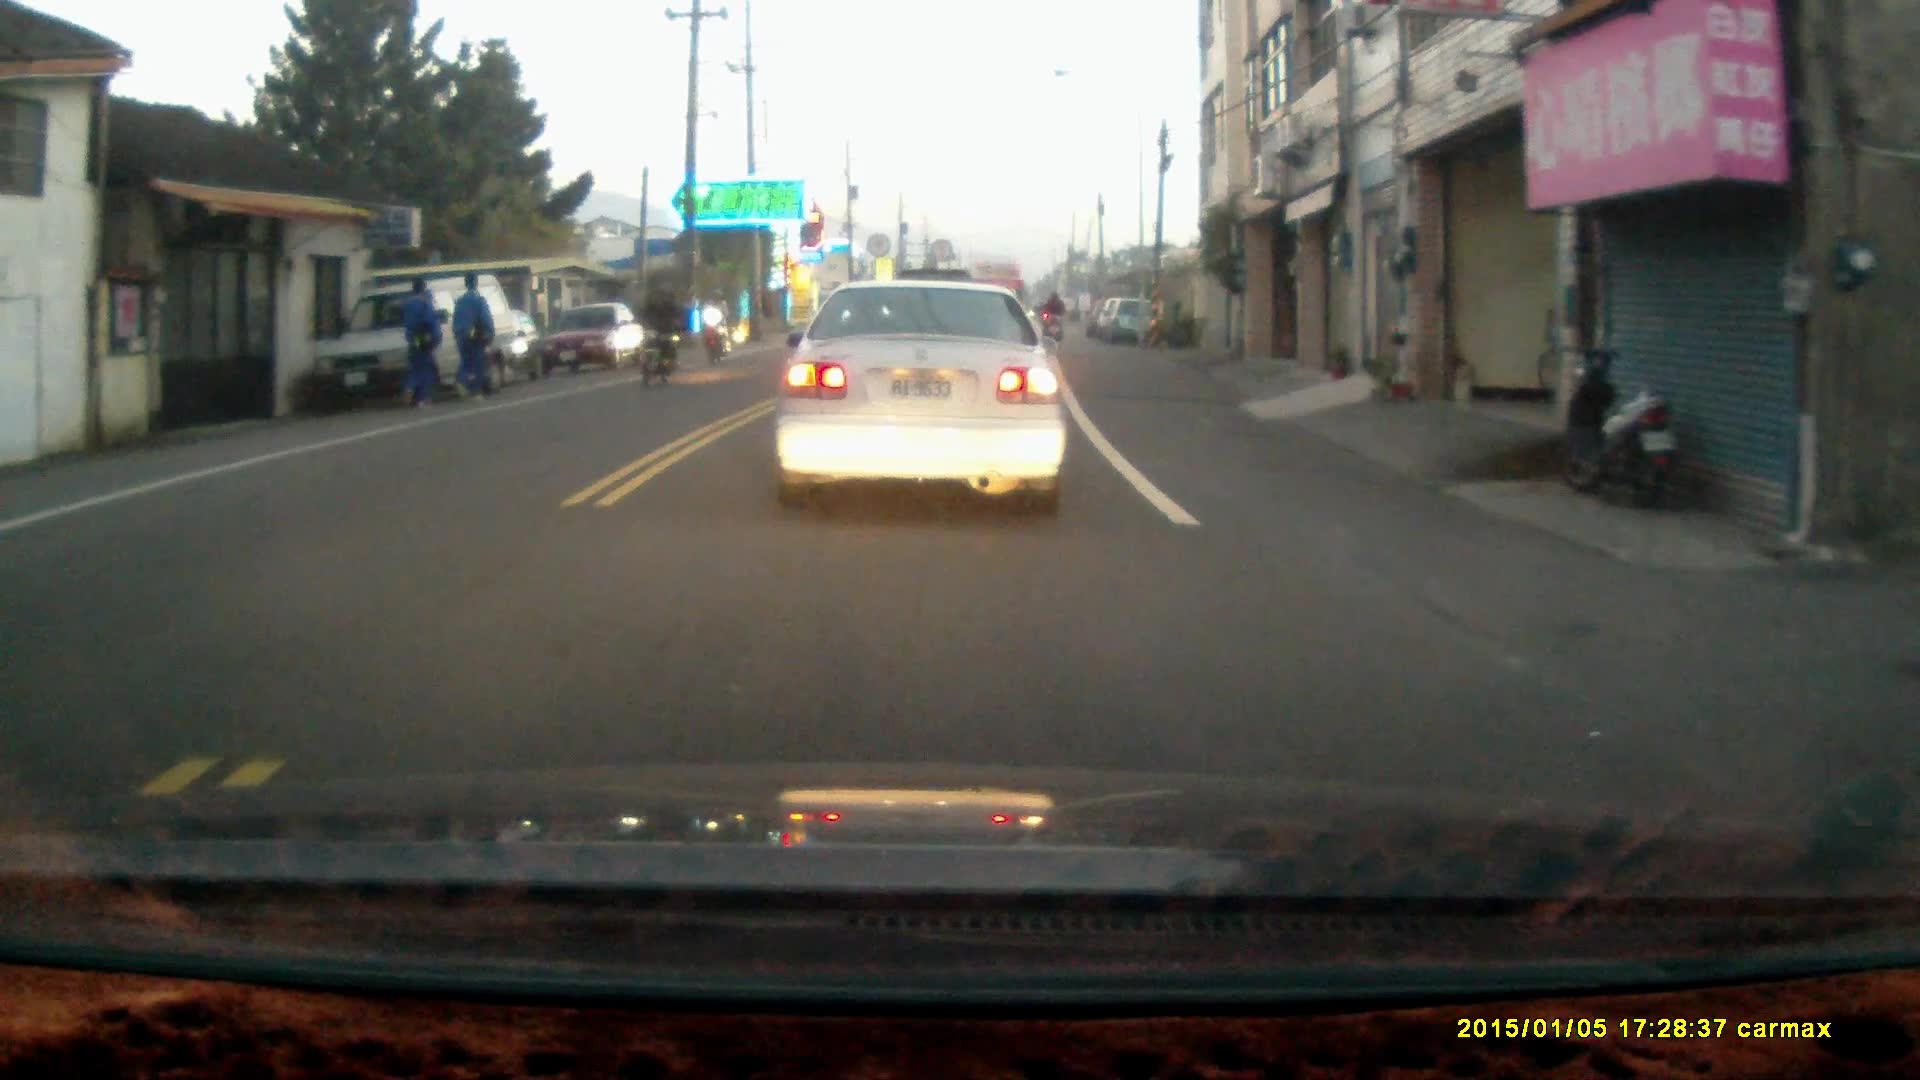pedestrian: (443, 267, 494, 405), (391, 276, 439, 410)
rider: (632, 282, 689, 385), (699, 286, 731, 364)
vehicle: (771, 272, 1070, 512), (313, 276, 531, 405), (534, 301, 649, 373)
